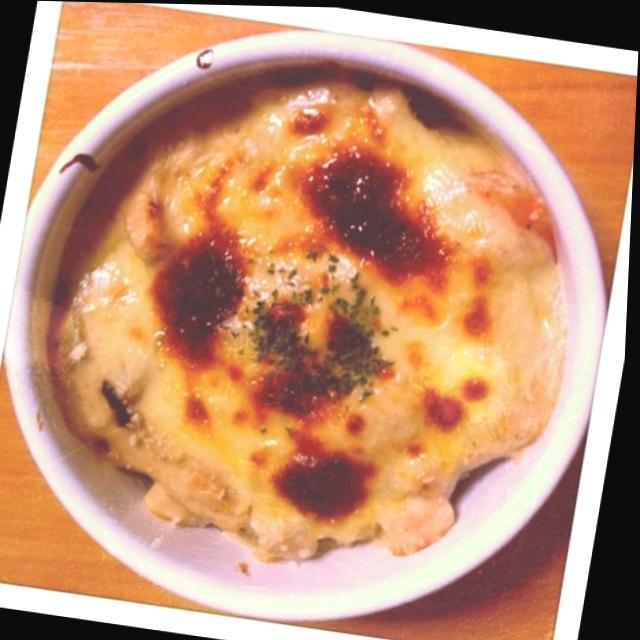米饭主食: (0, 15, 626, 628)
